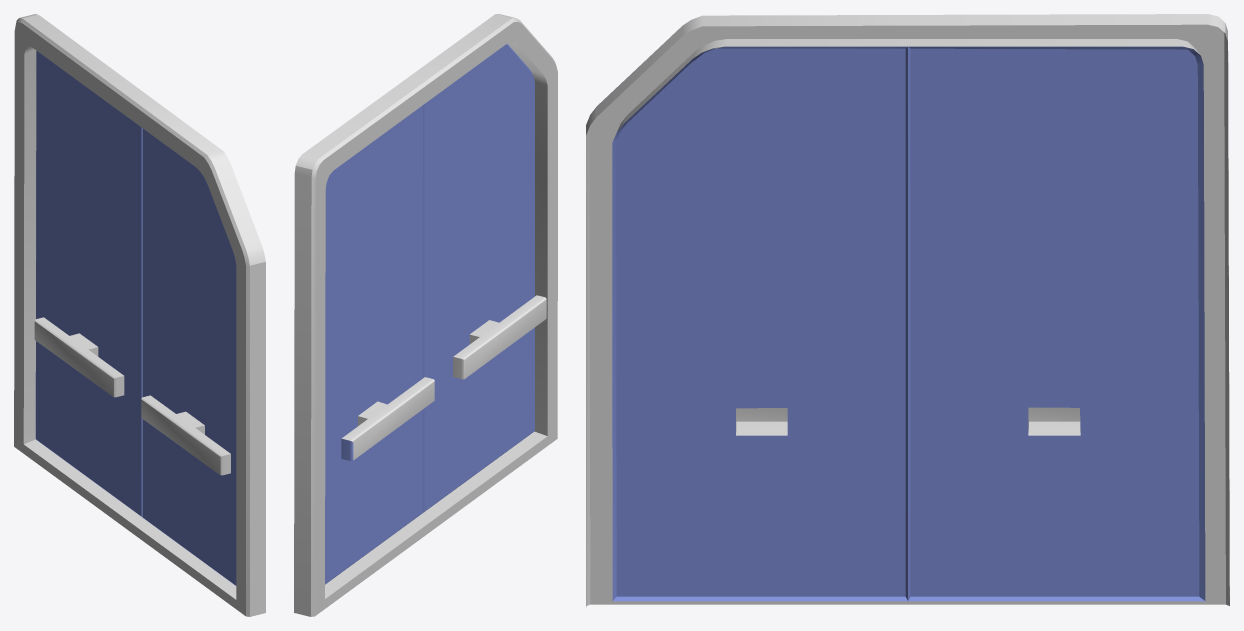
The model's file is CC_Door.fbx.
3 renders of one model, left to right at view 1: azimuth 30°, elevation 25°; view 2: azimuth 150°, elevation 25°; view 3: azimuth 270°, elevation 25°, orthographic. The views are drawn at different scales.
Visible parts, largest first — view 1: CC_Wall_03.001; view 2: CC_Wall_03.001; view 3: CC_Wall_03.001.
Part boxes in pixels (x1,y1,x2,y2): CC_Wall_03.001: (14, 14, 265, 616); CC_Wall_03.001: (294, 14, 557, 616); CC_Wall_03.001: (586, 14, 1229, 607).
Size of the model in its own units: 20.47 by 319 by 315.
